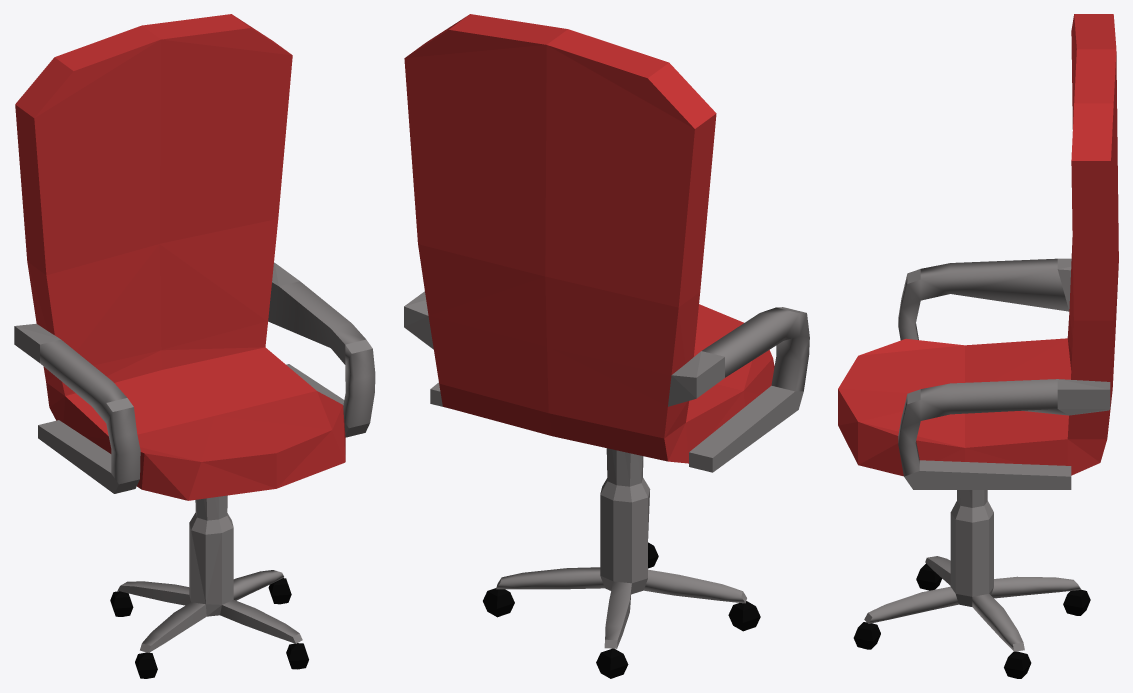
File: Cadeira1.FBX
3 renders of one model, left to right at view 1: azimuth 30°, elevation 25°; view 2: azimuth 150°, elevation 25°; view 3: azimuth 270°, elevation 25°, orthographic. The views are drawn at different scales.
Visible parts, largest first — view 1: polySurface7; view 2: polySurface7; view 3: polySurface7.
Part boxes in pixels (x1,y1,x2,y2): polySurface7: [14, 14, 375, 678]; polySurface7: [404, 14, 809, 678]; polySurface7: [838, 14, 1118, 678].
Size of the model in its own units: 2.34 by 4.88 by 2.12.
